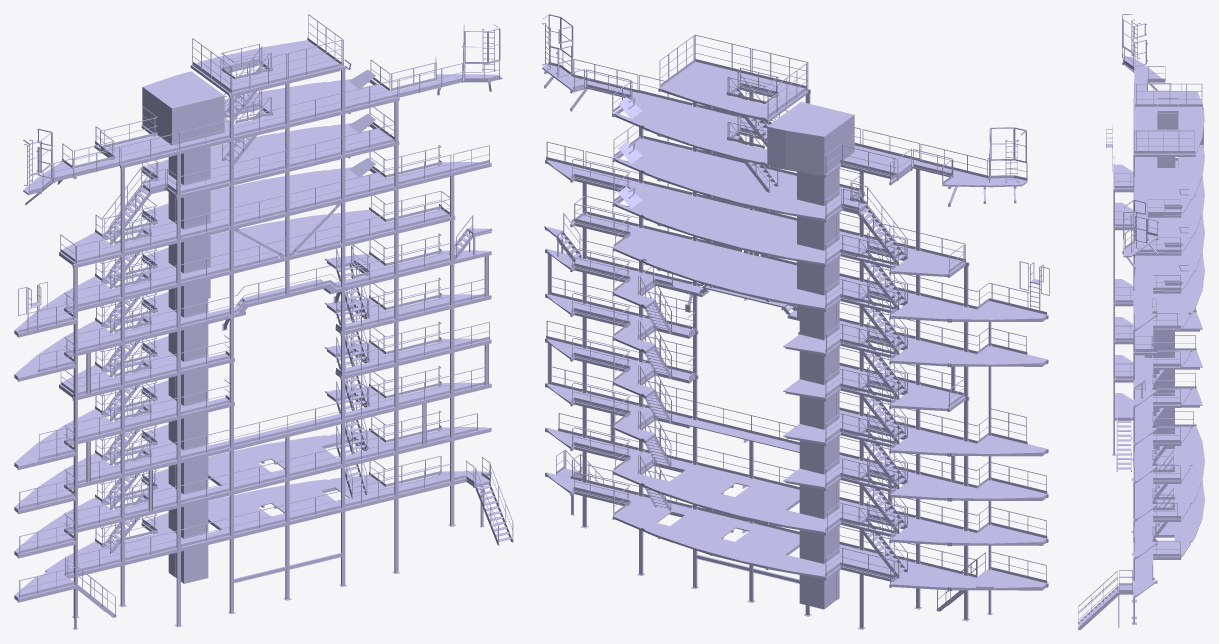
Rendered from Cavern-HO-SideC-cut1.glb.
3 renders of one model, left to right at view 1: azimuth 30°, elevation 25°; view 2: azimuth 150°, elevation 25°; view 3: azimuth 270°, elevation 25°, orthographic. The views are drawn at different scales.
Parts seen in each view (by area): view 1: S__00000170052C7760; view 2: S__00000170052C7760; view 3: S__00000170052C7760.
Boxes of the visible parts, bbox=[...] form: S__00000170052C7760: bbox=[14, 14, 513, 629]; S__00000170052C7760: bbox=[542, 14, 1049, 629]; S__00000170052C7760: bbox=[1078, 14, 1204, 629].
Bounding box in the file's own units: 29.04 × 30.9 × 7.56.
